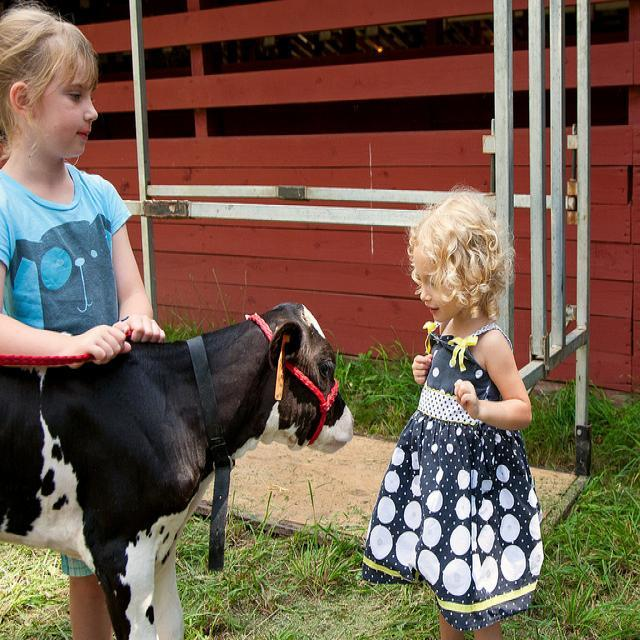cow: (0, 304, 355, 631)
